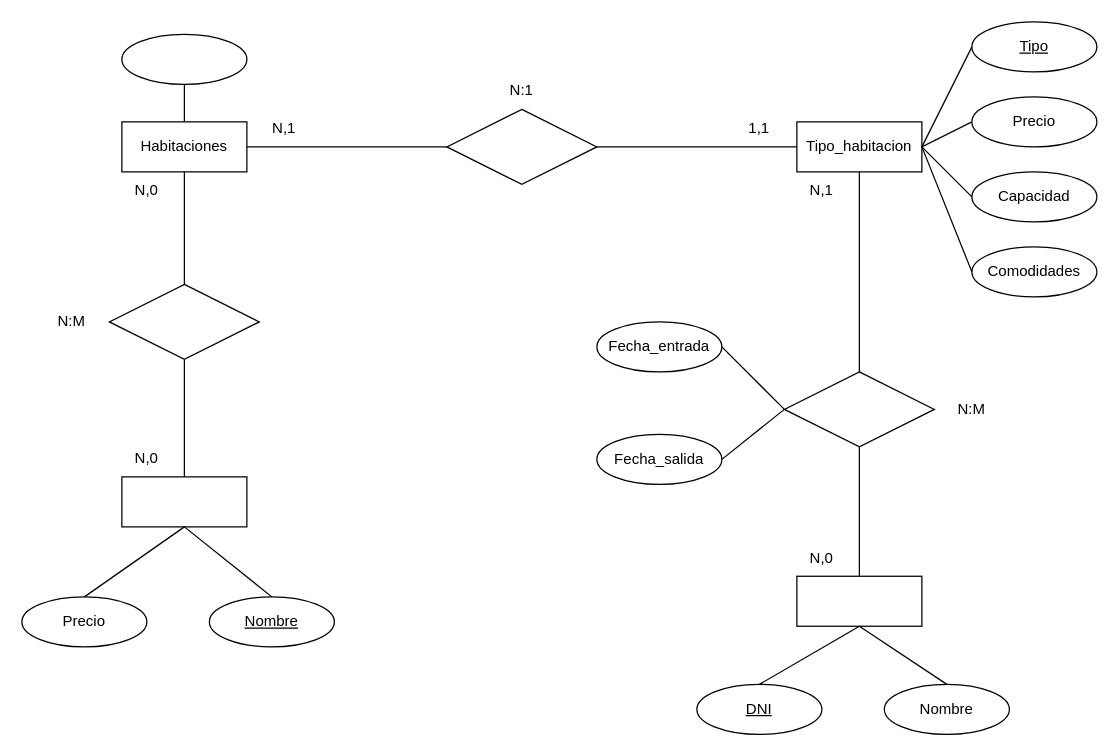
Image size: 1119x756. Some labels were removed from this diagram. Here are the shapes that lost their labels. From the top down, the centre of each, then its label:
the point at 184,58: Número
the point at 521,146: son
the point at 183,321: utilizan
the point at 858,409: reservan
the point at 184,501: Servicios
the point at 859,600: Huéspedes
